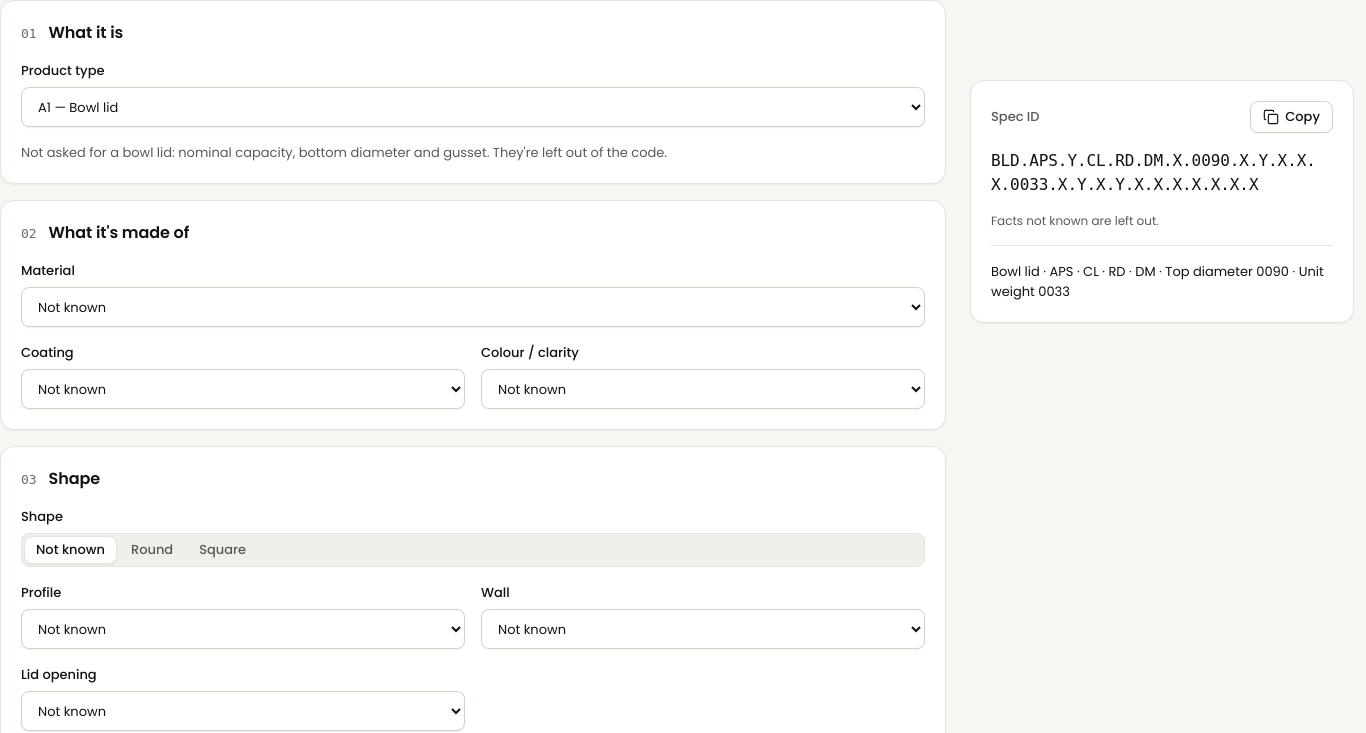
it: SpecIdWorkspace, the slots that apply › shows top diameter as "Not known", disabled, until a shape is chosen
What coordinates should you click on to do the following:
click the radio button labelled "Round"
I would click on:
 (152, 550)
Its box is 119,536 -> 185,564.
(page scrolled)
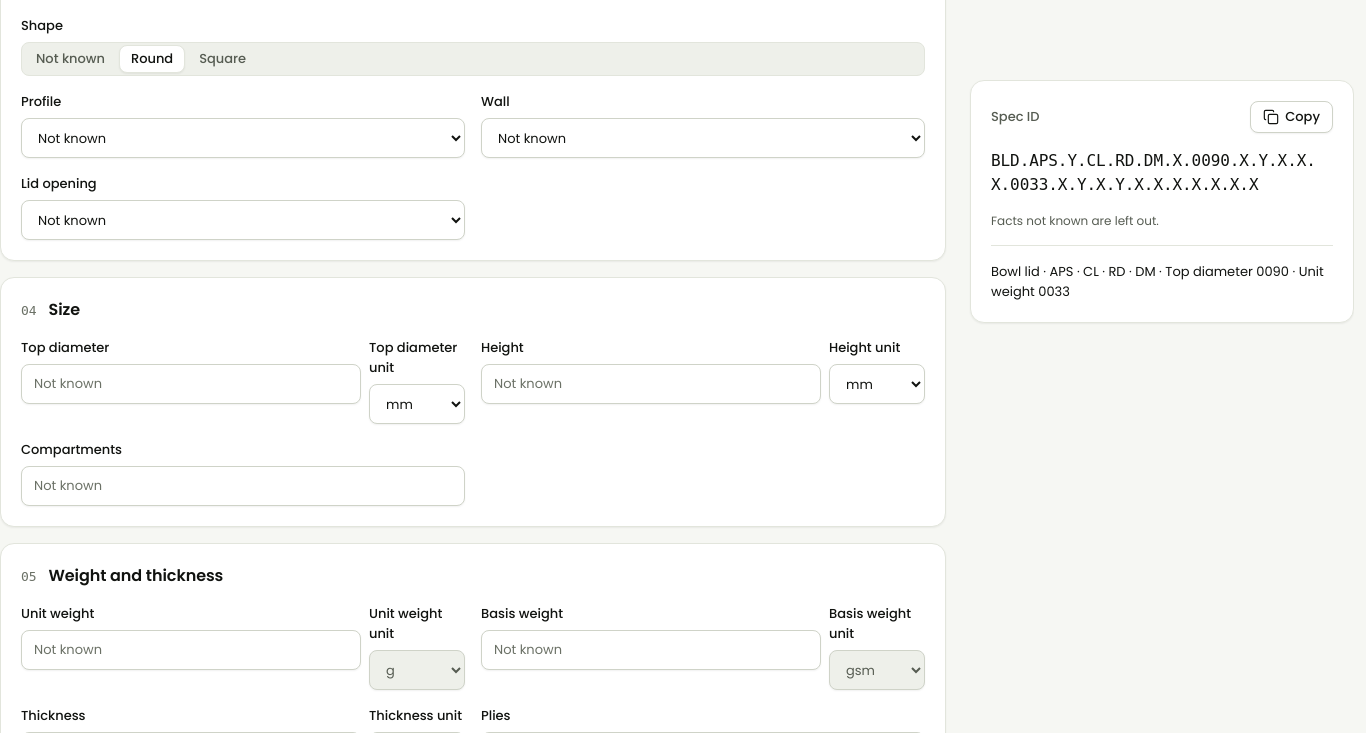
Result: the field labelled "Top diameter" is enabled at 21,364 -> 361,404
